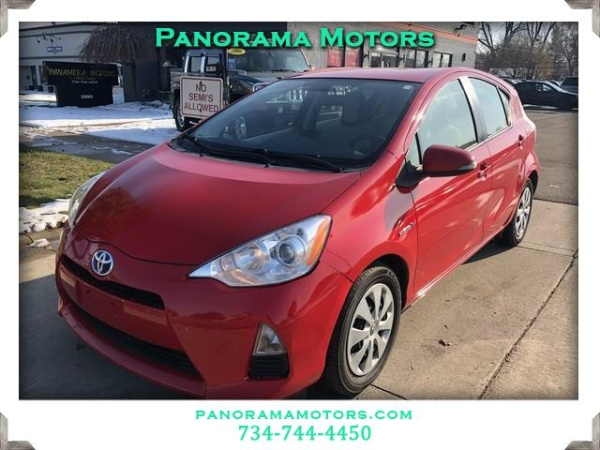Toyota Prius: (53, 63, 543, 397)
